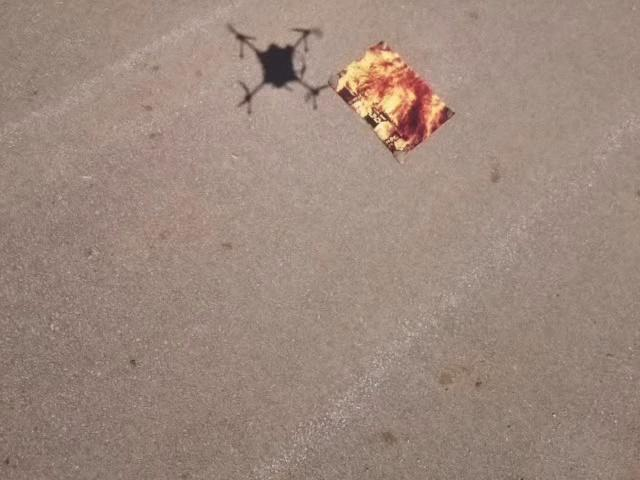fire-poster: (326, 39, 456, 166)
